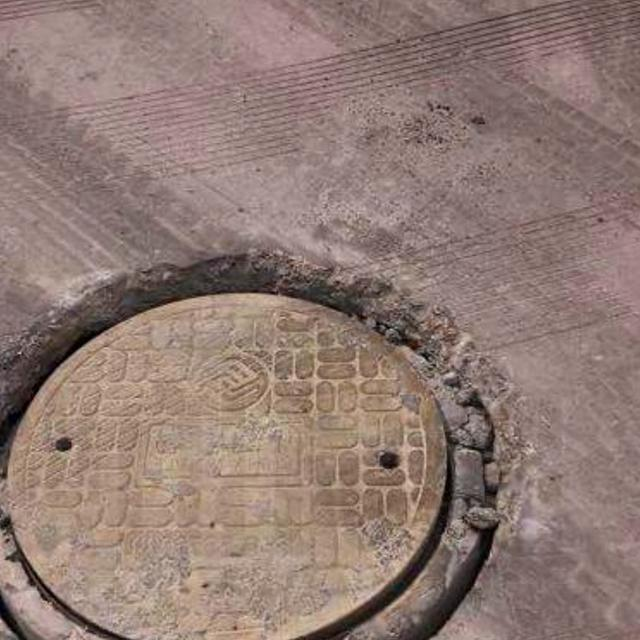circle: (0, 256, 514, 640)
